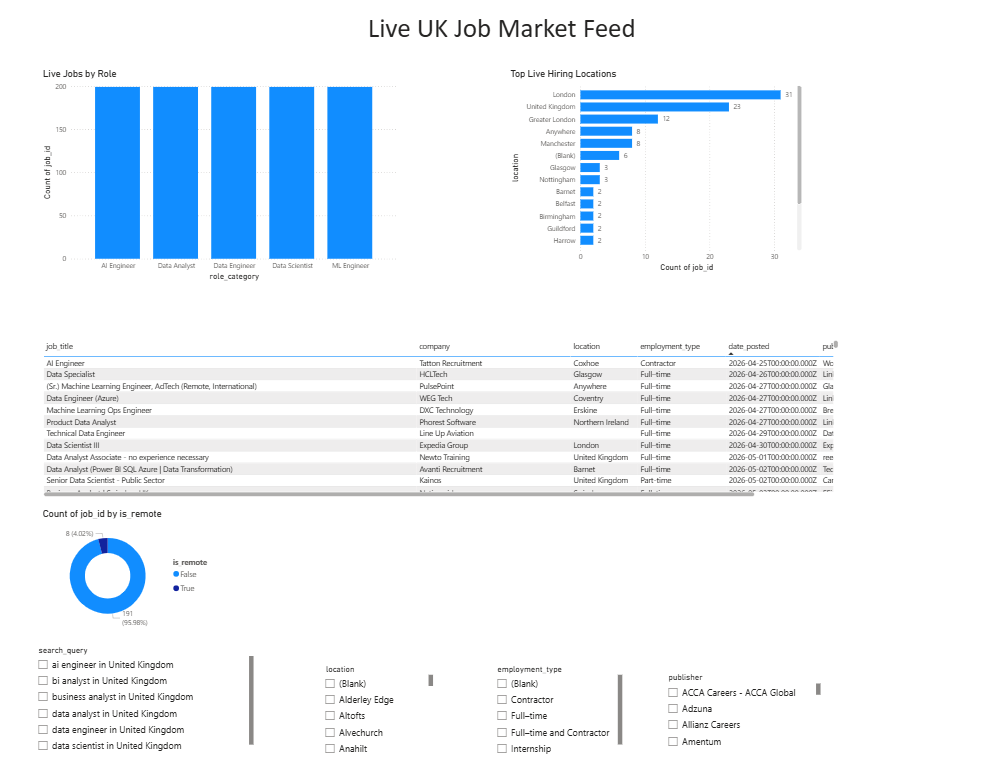

The page's visual inventory and layout, read from the dashboard file:
{"tool":"powerbi","page":{"name":"Page 4","canvas":[1800,1400],"ordinal":3},"visuals":[{"type":"textbox","box":[48,24,1704,120],"z":0},{"type":"clusteredColumnChart","title":"Live Jobs by Role","fields":{"Y":["CountNonNull(public live_jobs.job_id)"],"Category":["public jobs.role_category"]},"box":[80,128,640,384],"z":1},{"type":"clusteredBarChart","title":"Top Live Hiring Locations","fields":{"Category":["public live_jobs.location"],"Y":["CountNonNull(public live_jobs.job_id)"]},"box":[912,128,528,368],"z":2},{"type":"tableEx","fields":{"Values":["public live_jobs.job_title","public live_jobs.company","public live_jobs.location","public live_jobs.employment_type","public live_jobs.date_posted","public live_jobs.publisher"]},"box":[80,608,1424,288],"z":3},{"type":"donutChart","fields":{"Category":["public live_jobs.is_remote"],"Y":["CountNonNull(public live_jobs.job_id)"]},"box":[80,912,320,224],"z":4},{"type":"slicer","fields":{"Values":["public live_jobs.search_query"]},"box":[64,1152,400,208],"z":5},{"type":"slicer","fields":{"Values":["public live_jobs.location"]},"box":[576,1184,208,176],"z":6},{"type":"slicer","fields":{"Values":["public live_jobs.employment_type"]},"box":[880,1184,240,176],"z":7},{"type":"slicer","fields":{"Values":["public live_jobs.publisher"]},"box":[1184,1200,288,144],"z":8}]}

Visuals, with their boxes in screenshot pixels (x1, y1, x2, y2), scaled from the page's 1800x1400 canvas onto the 1005x781 screenshot:
textbox: rect(27, 13, 978, 80)
"Live Jobs by Role" clusteredColumnChart: rect(45, 71, 402, 286)
"Top Live Hiring Locations" clusteredBarChart: rect(509, 71, 804, 277)
tableEx - public live_jobs.job_title x public live_jobs.company: rect(45, 339, 840, 500)
donutChart - public live_jobs.is_remote x CountNonNull(public live_jobs.job_id): rect(45, 509, 223, 634)
slicer - public live_jobs.search_query: rect(36, 643, 259, 759)
slicer - public live_jobs.location: rect(322, 661, 438, 759)
slicer - public live_jobs.employment_type: rect(491, 661, 625, 759)
slicer - public live_jobs.publisher: rect(661, 669, 822, 750)
